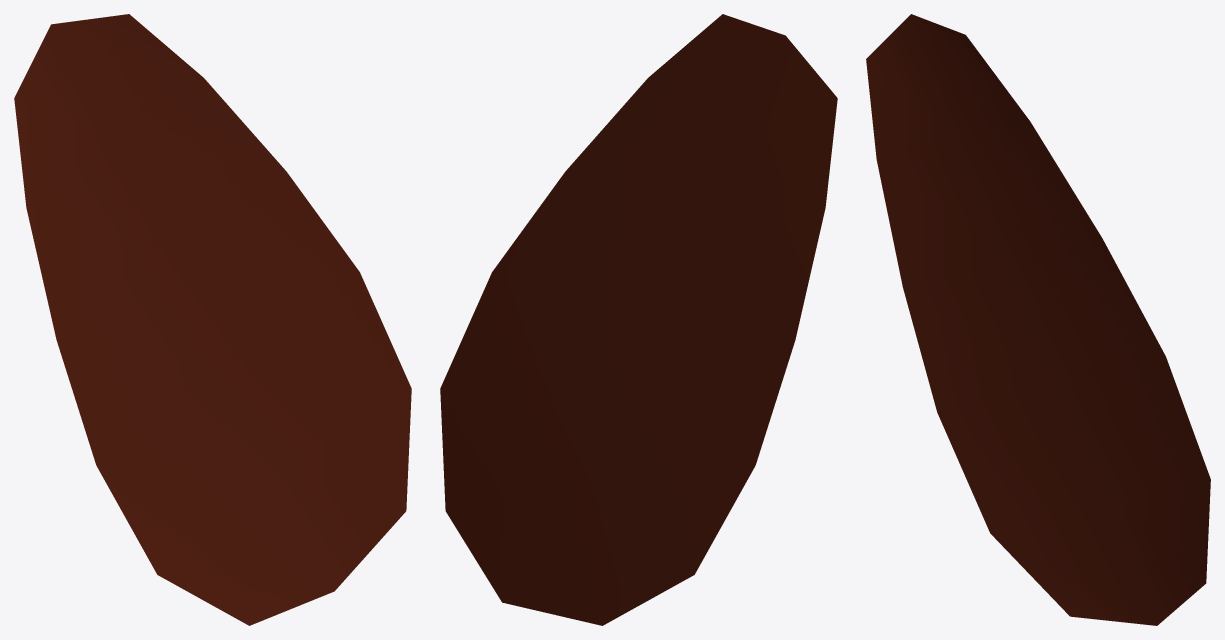
File: finch_feather_flight_tertiary_053.obj
3 views of the same model, side by side, from view 1: azimuth 30°, elevation 25°; view 2: azimuth 150°, elevation 25°; view 3: azimuth 330°, elevation 25° (orthographic). The views are drawn at different scales.
Parts seen in each view (by area): view 1: feather_flight_tertiary_053; view 2: feather_flight_tertiary_053; view 3: feather_flight_tertiary_053.
Boxes of the visible parts, left/top/right/bottom form: feather_flight_tertiary_053: left=14, top=14, right=411, bottom=625; feather_flight_tertiary_053: left=440, top=14, right=837, bottom=625; feather_flight_tertiary_053: left=866, top=14, right=1210, bottom=625.
Bounding box in the file's own units: 0.00461 × 0.00713 × 0.000153.
